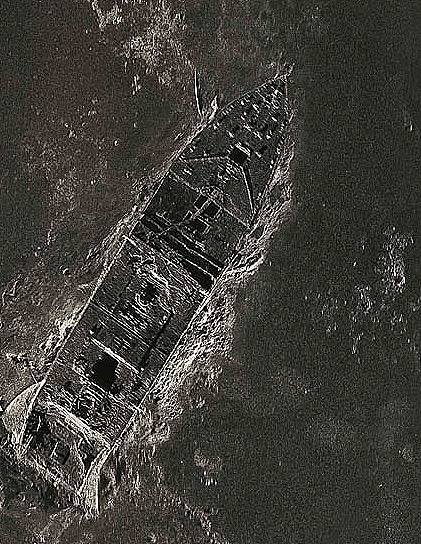ship: (3, 70, 291, 506)
